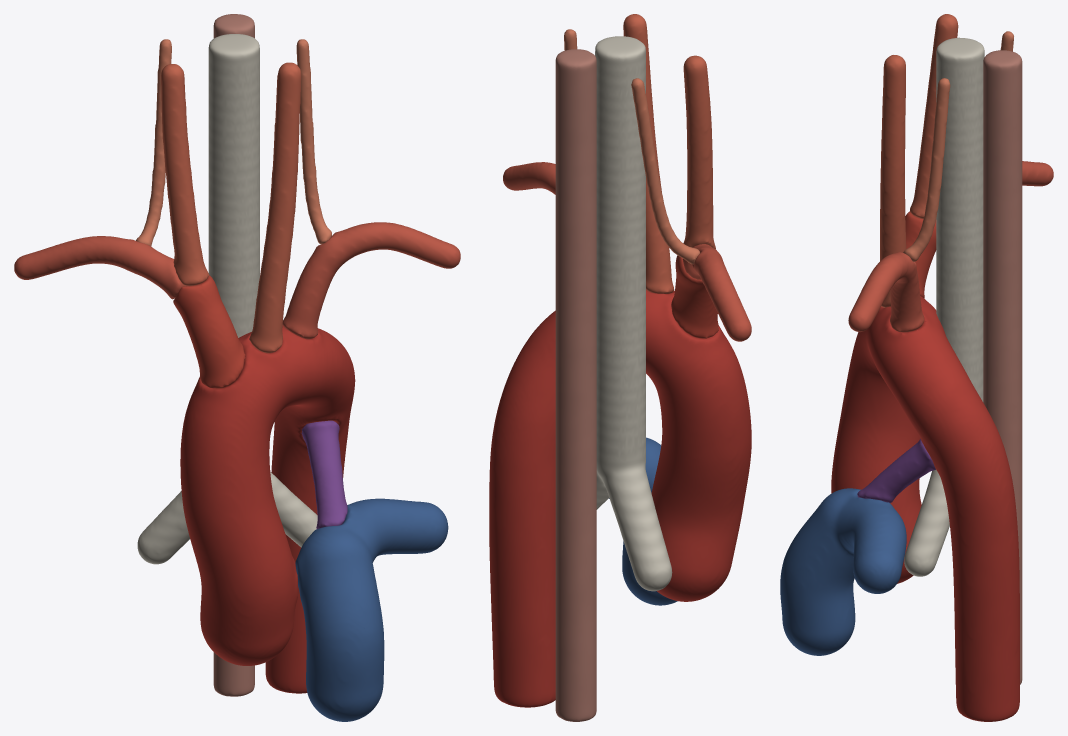
The model's file is aorta_pda.glb.
3 renders of one model, left to right at view 1: azimuth 30°, elevation 25°; view 2: azimuth 150°, elevation 25°; view 3: azimuth 270°, elevation 25°, orthographic. The views are drawn at different scales.
Visible parts, largest first — view 1: aorta, pulmonary_trunk, trachea, left_common_carotid, left_subclavian, right_common_carotid, right_subclavian, brachiocephalic_trunk, patent_ductus, left_vertebral, oesophagus, right_vertebral; view 2: aorta, oesophagus, trachea, right_common_carotid, left_common_carotid, right_subclavian, right_vertebral, brachiocephalic_trunk, pulmonary_trunk, left_subclavian; view 3: aorta, trachea, oesophagus, pulmonary_trunk, left_common_carotid, left_subclavian, right_common_carotid, left_vertebral, patent_ductus, brachiocephalic_trunk, right_subclavian.
Boxes of the visible parts, x1,y1,x2,y2 form: aorta: (180, 325, 355, 693); pulmonary_trunk: (295, 498, 448, 721); trachea: (137, 34, 317, 564); left_common_carotid: (249, 62, 301, 353); left_subclavian: (282, 222, 460, 339); right_common_carotid: (161, 64, 209, 285); right_subclavian: (14, 236, 189, 299); brachiocephalic_trunk: (173, 275, 245, 388); patent_ductus: (301, 420, 347, 529); left_vertebral: (296, 39, 331, 244); oesophagus: (213, 14, 254, 696); right_vertebral: (136, 39, 171, 246); aorta: (489, 290, 751, 707); oesophagus: (555, 49, 596, 721); trachea: (595, 36, 672, 591); right_common_carotid: (683, 55, 715, 249); left_common_carotid: (623, 14, 674, 293); right_subclavian: (682, 244, 751, 341); right_vertebral: (631, 78, 700, 264); brachiocephalic_trunk: (671, 250, 718, 338); pulmonary_trunk: (609, 437, 677, 605); left_subclavian: (503, 162, 555, 194); aorta: (831, 296, 1019, 721); trachea: (904, 37, 984, 576); oesophagus: (983, 50, 1022, 684); pulmonary_trunk: (780, 488, 906, 655); left_common_carotid: (880, 55, 906, 307); left_subclavian: (848, 252, 924, 332); right_common_carotid: (910, 14, 958, 218); left_vertebral: (903, 78, 950, 261); patent_ductus: (857, 439, 935, 503); brachiocephalic_trunk: (905, 211, 936, 298); right_subclavian: (1022, 161, 1053, 186).
Size of the model in its own units: 12.31 by 22.78 by 8.97.
